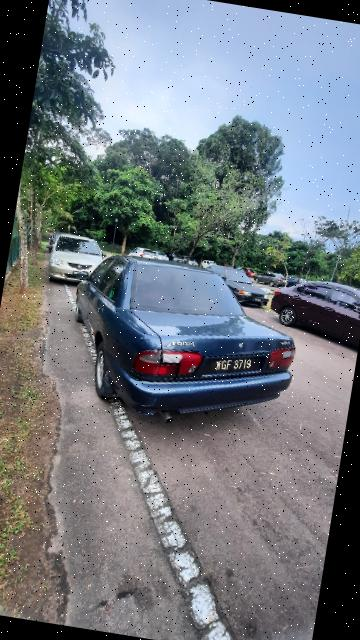License_Plate: (203, 344, 269, 384)
car: (50, 244, 312, 449)
